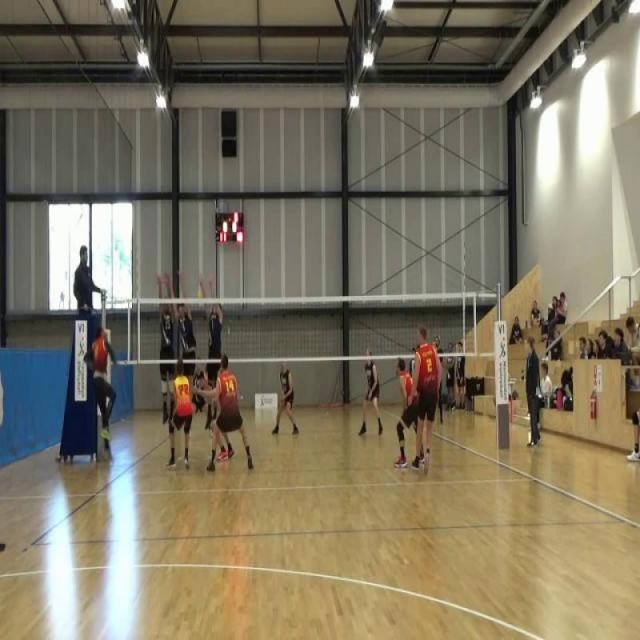volleyball: (197, 288, 204, 298)
